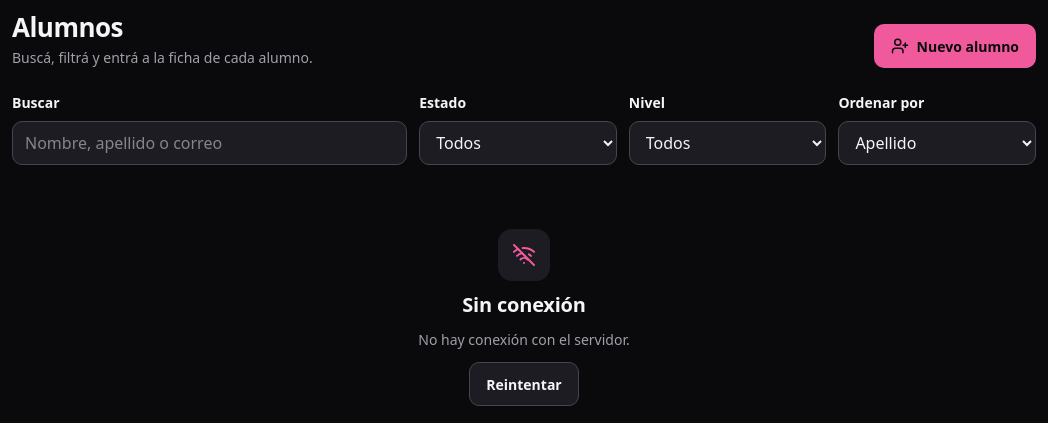
Test case: listado de alumnos › error con botón para reintentar
Expected: the heading "Sin conexión" is shown, [462,293,586,317]
Click the button "Reintentar".
click(524, 384)  # box [469,362,579,406]
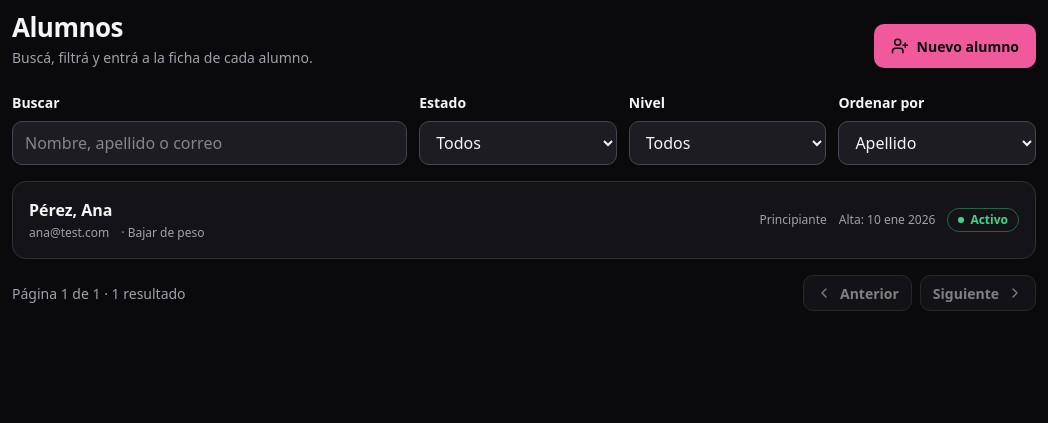
Result: the text "Pérez, Ana" is shown at [29,199,112,221]
